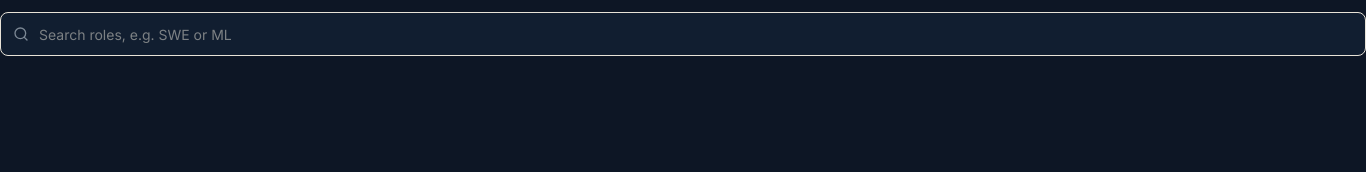
SearchableRoleDropdown › closes on Escape and shows an empty state for no matches
The image size is (1366, 172).
Type "zzzzqq" into the dropdown labelled "role" at x=696, y=34, box top-left (39, 13), bottom-right (1353, 55)
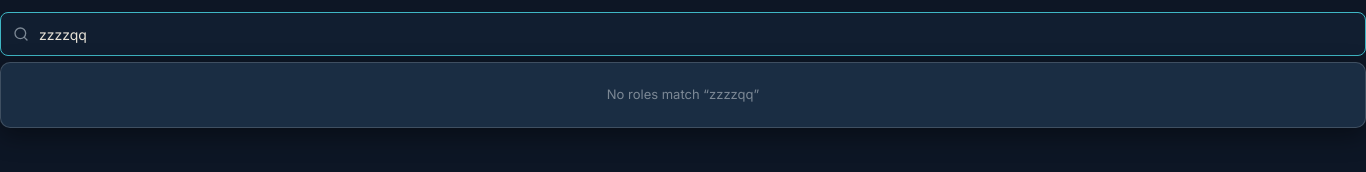
Check: the text "No roles match “zzzzqq”" is shown, box top-left (607, 86), bottom-right (759, 102)
Press Escape
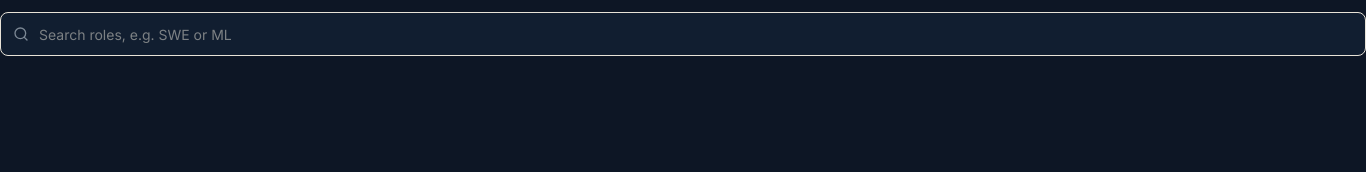
Check: the dropdown labelled "role" is collapsed, box top-left (39, 13), bottom-right (1353, 55)
